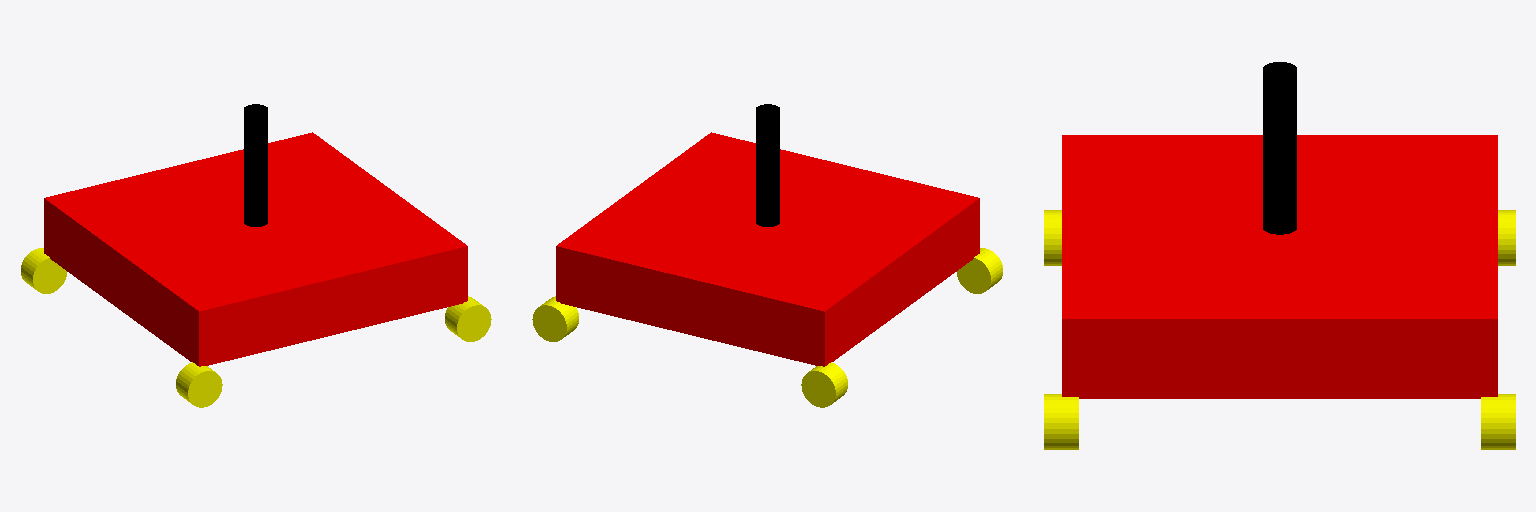
The robot description file, URDF, robot "fishbot":
<?xml version="1.0" ?>
<!-- =================================================================================== -->
<!-- |    This document was autogenerated by xacro from core/robot_simulation/urdf/fishrot/fishbot.xacro | -->
<!-- |    EDITING THIS FILE BY HAND IS NOT RECOMMENDED                                 | -->
<!-- =================================================================================== -->
<robot name="fishbot">
  <!-- 机器人的身体部件 -->
  <link name="base_link">
    <!-- 部件的外观描述 -->
    <visual>
      <!-- 相对于它所属 link 原点的位置偏移 -->
      <origin rpy="0 0 0" xyz="0 0 0"/>
      <!-- 几何形状 -->
      <geometry>
        <box size="0.5 0.5 0.1"/>
        <!-- 长lengthm 宽widthm 高heightm -->
      </geometry>
      <!-- 材质颜色 -->
      <material name="red">
        <color rgba="1 0 0 0.2"/>
        <!-- 红 绿 蓝 透明度，范围0~1 -->
      </material>
    </visual>
    <!-- 碰撞体积 (与visual几何一致) -->
    <collision>
      <origin rpy="0 0 0" xyz="0 0 0"/>
      <geometry>
        <box size="0.5 0.5 0.1"/>
      </geometry>
    </collision>
    <!-- 惯性 (质量与转动惯量，Gazebo仿真必需) -->
    <inertial>
      <mass value="5"/>
      <!-- 长方体转动惯量: Ixx=m/12*(y²+z²), Iyy=m/12*(x²+z²), Izz=m/12*(x²+y²) -->
      <inertia ixx="0.10833333333333334" ixy="0" ixz="0" iyy="0.10833333333333334" iyz="0" izz="0.20833333333333334"/>
    </inertial>
  </link>
  <!-- 添加虚拟部件，使机器人轮子贴合地面 -->
  <link name="base_footprint"/>
  <joint name="base_footprint_joint" type="fixed">
    <parent link="base_footprint"/>
    <child link="base_link"/>
    <origin rpy="0 0 0" xyz="0 0 0.112"/>
    <!-- base_link 在 base_footprint 上方 0.112m，轮子恰好贴地 -->
  </joint>
  <!-- 机器人的IMU部件 -->
  <link name="imu_link">
    <!-- 部件的外观描述 -->
    <visual>
      <!-- 相对于它所属 link 原点的位置偏移 -->
      <origin rpy="0 0 0" xyz="0 0 0"/>
      <!-- 几何形状 -->
      <geometry>
        <box size="0.02 0.02 0.02"/>
        <!-- 长0.02m 宽0.02m 高0.02m -->
      </geometry>
      <!-- 材质颜色 -->
      <material name="gray">
        <color rgba="0 0 0 0.5"/>
      </material>
    </visual>
    <!-- 碰撞体积 (与visual几何一致) -->
    <collision>
      <origin rpy="0 0 0" xyz="0 0 0"/>
      <geometry>
        <box size="0.02 0.02 0.02"/>
      </geometry>
    </collision>
    <!-- 惯性 (质量与转动惯量，Gazebo仿真必需) -->
    <inertial>
      <mass value="0.01"/>
      <inertia ixx="0.000000667" ixy="0" ixz="0" iyy="0.000000667" iyz="0" izz="0.000000667"/>
    </inertial>
  </link>
  <!-- 将IMU部件固定到机器人身体部件 -->
  <joint name="imu_link_joint" type="fixed">
    <parent link="base_link"/>
    <child link="imu_link"/>
    <origin rpy="0 0 0" xyz="0 0 -0.1"/>
    <!-- child(imu_link) 相对于 parent(base_link) 的偏移 -->
  </joint>
  <!-- 雷达支撑杆部件 -->
  <link name="laser_cylinder_link">
    <!-- 部件的外观描述 -->
    <visual>
      <!-- 相对于它所属 link 原点的位置偏移 -->
      <origin rpy="0 0 0" xyz="0 0 0"/>
      <!-- 几何形状 -->
      <geometry>
        <cylinder length="0.1" radius="0.01"/>
        <!-- 圆柱体：半径0.01m 高0.1m -->
      </geometry>
      <!-- 材质颜色 -->
      <material name="black">
        <color rgba="0 0 0 1.0"/>
      </material>
    </visual>
    <!-- 碰撞体积 (与visual几何一致) -->
    <collision>
      <origin rpy="0 0 0" xyz="0 0 0"/>
      <geometry>
        <cylinder length="0.1" radius="0.01"/>
      </geometry>
    </collision>
    <!-- 惯性 (质量与转动惯量，Gazebo仿真必需) -->
    <inertial>
      <mass value="0.1"/>
      <inertia ixx="0.0000858" ixy="0" ixz="0" iyy="0.000005" iyz="0" izz="0.0000858"/>
    </inertial>
  </link>
  <!-- 雷达部件 -->
  <link name="laser_link">
    <!-- 部件的外观描述 -->
    <visual>
      <!-- 相对于它所属 link 原点的位置偏移 -->
      <origin rpy="0 0 0" xyz="0 0 0"/>
      <!-- 几何形状 -->
      <geometry>
        <cylinder length="0.2" radius="0.02"/>
        <!-- 圆柱体：半径0.02m 高0.2m -->
      </geometry>
      <!-- 材质颜色 -->
      <material name="black">
        <color rgba="0 0 0 1.0"/>
      </material>
    </visual>
    <!-- 碰撞体积 (与visual几何一致) -->
    <collision>
      <origin rpy="0 0 0" xyz="0 0 0"/>
      <geometry>
        <cylinder length="0.2" radius="0.02"/>
      </geometry>
    </collision>
    <!-- 惯性 (质量与转动惯量，Gazebo仿真必需) -->
    <inertial>
      <mass value="0.2"/>
      <inertia ixx="0.000687" ixy="0" ixz="0" iyy="0.00004" iyz="0" izz="0.000687"/>
    </inertial>
  </link>
  <!-- 将雷达固定到支撑杆 -->
  <joint name="laser_joint" type="fixed">
    <parent link="laser_cylinder_link"/>
    <child link="laser_link"/>
    <origin rpy="0 0 0" xyz="0 0 0.05"/>
    <!-- child(laser_link) 相对于 parent(laser_cylinder_link) 的偏移 -->
  </joint>
  <!-- 将雷达支撑杆固定到机器人身体 -->
  <joint name="laser_cylinder_joint" type="fixed">
    <parent link="base_link"/>
    <child link="laser_cylinder_link"/>
    <origin rpy="0 0 0" xyz="0 0 0.1"/>
    <!-- child(laser_cylinder_link) 相对于 parent(base_link) 的偏移 -->
  </joint>
  <gazebo reference="laser_cylinder_link">
    <visual>
      <material>
        <ambient>0 0 1 1</ambient>
        <diffuse>0 0 1 1</diffuse>
        <specular>0.1 0.1 0.1 1</specular>
        <emissive>0 0 0 1</emissive>
      </material>
    </visual>
  </gazebo>
  <gazebo reference="laser_link">
    <visual>
      <material>
        <ambient>0 0 1 1</ambient>
        <diffuse>0 0 1 1</diffuse>
        <specular>0.1 0.1 0.1 1</specular>
        <emissive>0 0 0 1</emissive>
      </material>
    </visual>
  </gazebo>
  <link name="left_front_wheel_link">
    <!-- 部件的外观描述 -->
    <visual>
      <!-- 相对于它所属 link 原点的位置偏移 -->
      <!-- 1.5708弧度，表示绕X轴旋转90度，把竖直的圆柱体放平成轮子 -->
      <origin rpy="1.5708 0 0" xyz="0 0 0"/>
      <!-- 几何形状 -->
      <geometry>
        <cylinder length="0.04" radius="0.032"/>
        <!-- 半径0.032m 高0.04m -->
      </geometry>
      <!-- 材质颜色 -->
      <material name="yellow">
        <color rgba="1 1 0 0.8"/>
        <!-- 红 绿 蓝 透明度，范围0~1 -->
      </material>
    </visual>
    <!-- 碰撞体积 (与visual几何一致) -->
    <collision>
      <origin rpy="1.5708 0 0" xyz="0 0 0"/>
      <geometry>
        <cylinder length="0.04" radius="0.032"/>
      </geometry>
    </collision>
    <!-- 惯性 (质量与转动惯量，Gazebo仿真必需) -->
    <inertial>
      <mass value="0.1"/>
      <!-- 圆柱体转动惯量 (半径r=0.032, 长l=0.04, 绕轴I=mr²/2, 垂直轴I=m(3r²+l²)/12) -->
      <inertia ixx="0.0000389" ixy="0" ixz="0" iyy="0.0000512" iyz="0" izz="0.0000389"/>
    </inertial>
  </link>
  <joint name="left_front_wheel_joint" type="continuous">
    <parent link="base_link"/>
    <child link="left_front_wheel_link"/>
    <origin rpy="0 0 0" xyz=" 0.25  0.25 -0.08"/>
    <!-- child(${${wheel_name}_link) 相对于 parent(base_link) 的偏移 -->
    <axis xyz="0 1 0"/>
    <!-- 轴向为y轴 -->
  </joint>
  <!-- Gazebo Fortress 驱动轮接触物理参数，防打滑陷地 -->
  <gazebo reference="left_front_wheel_link">
    <collision>
      <surface>
        <contact>
          <ode>
            <mu>20.0</mu>
            <!-- 滚动方向摩擦系数，越大越不打滑 -->
            <mu2>20.0</mu2>
            <!-- 横向侧滑摩擦系数 -->
            <kp>10000000000.0</kp>
            <!-- 接触刚度，轮子硬度 -->
            <kd>1.0</kd>
            <!-- 接触阻尼，落地缓冲 -->
          </ode>
        </contact>
      </surface>
    </collision>
  </gazebo>
  <link name="right_front_wheel_link">
    <!-- 部件的外观描述 -->
    <visual>
      <!-- 相对于它所属 link 原点的位置偏移 -->
      <!-- 1.5708弧度，表示绕X轴旋转90度，把竖直的圆柱体放平成轮子 -->
      <origin rpy="1.5708 0 0" xyz="0 0 0"/>
      <!-- 几何形状 -->
      <geometry>
        <cylinder length="0.04" radius="0.032"/>
        <!-- 半径0.032m 高0.04m -->
      </geometry>
      <!-- 材质颜色 -->
      <material name="yellow">
        <color rgba="1 1 0 0.8"/>
        <!-- 红 绿 蓝 透明度，范围0~1 -->
      </material>
    </visual>
    <!-- 碰撞体积 (与visual几何一致) -->
    <collision>
      <origin rpy="1.5708 0 0" xyz="0 0 0"/>
      <geometry>
        <cylinder length="0.04" radius="0.032"/>
      </geometry>
    </collision>
    <!-- 惯性 (质量与转动惯量，Gazebo仿真必需) -->
    <inertial>
      <mass value="0.1"/>
      <!-- 圆柱体转动惯量 (半径r=0.032, 长l=0.04, 绕轴I=mr²/2, 垂直轴I=m(3r²+l²)/12) -->
      <inertia ixx="0.0000389" ixy="0" ixz="0" iyy="0.0000512" iyz="0" izz="0.0000389"/>
    </inertial>
  </link>
  <joint name="right_front_wheel_joint" type="continuous">
    <parent link="base_link"/>
    <child link="right_front_wheel_link"/>
    <origin rpy="0 0 0" xyz=" 0.25 -0.25 -0.08"/>
    <!-- child(${${wheel_name}_link) 相对于 parent(base_link) 的偏移 -->
    <axis xyz="0 1 0"/>
    <!-- 轴向为y轴 -->
  </joint>
  <!-- Gazebo Fortress 驱动轮接触物理参数，防打滑陷地 -->
  <gazebo reference="right_front_wheel_link">
    <collision>
      <surface>
        <contact>
          <ode>
            <mu>20.0</mu>
            <!-- 滚动方向摩擦系数，越大越不打滑 -->
            <mu2>20.0</mu2>
            <!-- 横向侧滑摩擦系数 -->
            <kp>10000000000.0</kp>
            <!-- 接触刚度，轮子硬度 -->
            <kd>1.0</kd>
            <!-- 接触阻尼，落地缓冲 -->
          </ode>
        </contact>
      </surface>
    </collision>
  </gazebo>
  <link name="left_rear_wheel_link">
    <!-- 部件的外观描述 -->
    <visual>
      <!-- 相对于它所属 link 原点的位置偏移 -->
      <!-- 1.5708弧度，表示绕X轴旋转90度，把竖直的圆柱体放平成轮子 -->
      <origin rpy="1.5708 0 0" xyz="0 0 0"/>
      <!-- 几何形状 -->
      <geometry>
        <cylinder length="0.04" radius="0.032"/>
        <!-- 半径0.032m 高0.04m -->
      </geometry>
      <!-- 材质颜色 -->
      <material name="yellow">
        <color rgba="1 1 0 0.8"/>
        <!-- 红 绿 蓝 透明度，范围0~1 -->
      </material>
    </visual>
    <!-- 碰撞体积 (与visual几何一致) -->
    <collision>
      <origin rpy="1.5708 0 0" xyz="0 0 0"/>
      <geometry>
        <cylinder length="0.04" radius="0.032"/>
      </geometry>
    </collision>
    <!-- 惯性 (质量与转动惯量，Gazebo仿真必需) -->
    <inertial>
      <mass value="0.1"/>
      <!-- 圆柱体转动惯量 (半径r=0.032, 长l=0.04, 绕轴I=mr²/2, 垂直轴I=m(3r²+l²)/12) -->
      <inertia ixx="0.0000389" ixy="0" ixz="0" iyy="0.0000512" iyz="0" izz="0.0000389"/>
    </inertial>
  </link>
  <joint name="left_rear_wheel_joint" type="continuous">
    <parent link="base_link"/>
    <child link="left_rear_wheel_link"/>
    <origin rpy="0 0 0" xyz="-0.25  0.25 -0.08"/>
    <!-- child(${${wheel_name}_link) 相对于 parent(base_link) 的偏移 -->
    <axis xyz="0 1 0"/>
    <!-- 轴向为y轴 -->
  </joint>
  <!-- Gazebo Fortress 驱动轮接触物理参数，防打滑陷地 -->
  <gazebo reference="left_rear_wheel_link">
    <collision>
      <surface>
        <contact>
          <ode>
            <mu>20.0</mu>
            <!-- 滚动方向摩擦系数，越大越不打滑 -->
            <mu2>20.0</mu2>
            <!-- 横向侧滑摩擦系数 -->
            <kp>10000000000.0</kp>
            <!-- 接触刚度，轮子硬度 -->
            <kd>1.0</kd>
            <!-- 接触阻尼，落地缓冲 -->
          </ode>
        </contact>
      </surface>
    </collision>
  </gazebo>
  <link name="right_rear_wheel_link">
    <!-- 部件的外观描述 -->
    <visual>
      <!-- 相对于它所属 link 原点的位置偏移 -->
      <!-- 1.5708弧度，表示绕X轴旋转90度，把竖直的圆柱体放平成轮子 -->
      <origin rpy="1.5708 0 0" xyz="0 0 0"/>
      <!-- 几何形状 -->
      <geometry>
        <cylinder length="0.04" radius="0.032"/>
        <!-- 半径0.032m 高0.04m -->
      </geometry>
      <!-- 材质颜色 -->
      <material name="yellow">
        <color rgba="1 1 0 0.8"/>
        <!-- 红 绿 蓝 透明度，范围0~1 -->
      </material>
    </visual>
    <!-- 碰撞体积 (与visual几何一致) -->
    <collision>
      <origin rpy="1.5708 0 0" xyz="0 0 0"/>
      <geometry>
        <cylinder length="0.04" radius="0.032"/>
      </geometry>
    </collision>
    <!-- 惯性 (质量与转动惯量，Gazebo仿真必需) -->
    <inertial>
      <mass value="0.1"/>
      <!-- 圆柱体转动惯量 (半径r=0.032, 长l=0.04, 绕轴I=mr²/2, 垂直轴I=m(3r²+l²)/12) -->
      <inertia ixx="0.0000389" ixy="0" ixz="0" iyy="0.0000512" iyz="0" izz="0.0000389"/>
    </inertial>
  </link>
  <joint name="right_rear_wheel_joint" type="continuous">
    <parent link="base_link"/>
    <child link="right_rear_wheel_link"/>
    <origin rpy="0 0 0" xyz="-0.25 -0.25 -0.08"/>
    <!-- child(${${wheel_name}_link) 相对于 parent(base_link) 的偏移 -->
    <axis xyz="0 1 0"/>
    <!-- 轴向为y轴 -->
  </joint>
  <!-- Gazebo Fortress 驱动轮接触物理参数，防打滑陷地 -->
  <gazebo reference="right_rear_wheel_link">
    <collision>
      <surface>
        <contact>
          <ode>
            <mu>20.0</mu>
            <!-- 滚动方向摩擦系数，越大越不打滑 -->
            <mu2>20.0</mu2>
            <!-- 横向侧滑摩擦系数 -->
            <kp>10000000000.0</kp>
            <!-- 接触刚度，轮子硬度 -->
            <kd>1.0</kd>
            <!-- 接触阻尼，落地缓冲 -->
          </ode>
        </contact>
      </surface>
    </collision>
  </gazebo>
  <link name="center_caster_link">
    <!-- 部件的外观描述 -->
    <visual>
      <!-- 相对于它所属 link 原点的位置偏移 -->
      <origin rpy="0 0 0" xyz="0 0 0"/>
      <!-- 几何形状 -->
      <geometry>
        <sphere radius="0.016"/>
        <!-- 半径0.016m -->
      </geometry>
      <!-- 材质颜色 -->
      <material name="yellow">
        <color rgba="1 1 0 0.8"/>
        <!-- 红 绿 蓝 透明度，范围0~1 -->
      </material>
    </visual>
    <!-- 碰撞体积 (与visual几何一致) -->
    <collision>
      <origin rpy="0 0 0" xyz="0 0 0"/>
      <geometry>
        <sphere radius="0.016"/>
      </geometry>
    </collision>
    <!-- 惯性 (质量与转动惯量，Gazebo仿真必需) -->
    <inertial>
      <mass value="0.05"/>
      <!-- 球体转动惯量: I = 2/5 * m * r² -->
      <inertia ixx="0.00000512" ixy="0" ixz="0" iyy="0.00000512" iyz="0" izz="0.00000512"/>
    </inertial>
  </link>
  <joint name="center_caster_joint" type="fixed">
    <parent link="base_link"/>
    <child link="center_caster_link"/>
    <origin rpy="0 0 0" xyz="0 0 -0.096"/>
    <!-- child(${${wheel_name}_link) 相对于 parent(base_link) 的偏移 -->
  </joint>
  <!-- Gazebo Fortress 万向轮接触物理参数，无摩擦可自由滑动 -->
  <gazebo reference="center_caster_link">
    <collision>
      <surface>
        <contact>
          <ode>
            <mu>0.0</mu>
            <!-- 滚动摩擦为0，万向轮无阻力 -->
            <mu2>0.0</mu2>
            <!-- 侧滑摩擦为0，万向轮可自由转向 -->
            <kp>10000000000.0</kp>
            <!-- 接触刚度，避免陷地 -->
            <kd>1.0</kd>
            <!-- 接触阻尼，落地缓冲 -->
          </ode>
        </contact>
      </surface>
    </collision>
  </gazebo>
  <!-- 中心万向轮 -->
  <!-- 差速驱动插件（作用在整个模型上） -->
  <gazebo>
    <plugin filename="libignition-gazebo-diff-drive-system.so" name="ignition::gazebo::systems::DiffDrive">
      <left_joint>left_front_wheel_joint</left_joint>
      <left_joint>left_rear_wheel_joint</left_joint>
      <right_joint>right_front_wheel_joint</right_joint>
      <right_joint>right_rear_wheel_joint</right_joint>
      <wheel_separation>0.5</wheel_separation>
      <wheel_radius>0.032</wheel_radius>
      <odom_publish_frequency>30</odom_publish_frequency>
      <topic>cmd_vel</topic>
    </plugin>
  </gazebo>
</robot>

--- What the picture shows (computed from the rendered views, not written in the file) ---
3 views of the same robot in one strip: view 1: azimuth 30°, elevation 25°; view 2: azimuth 150°, elevation 25°; view 3: azimuth 270°, elevation 25° (orthographic).
Model fishbot with 10 links and 9 joints (4 continuous, 5 fixed), rooted at base_footprint, posed all joints at 0.
Links seen in each view (by area): view 1: base_link, laser_link, right_rear_wheel_link, right_front_wheel_link, left_rear_wheel_link; view 2: base_link, laser_link, left_rear_wheel_link, left_front_wheel_link, right_rear_wheel_link; view 3: base_link, laser_link, left_front_wheel_link, right_front_wheel_link, left_rear_wheel_link, right_rear_wheel_link.
Boxes of the visible links, box(x1,y1,x2,y2) form: base_link: box(44, 132, 467, 366); laser_link: box(244, 104, 267, 226); right_rear_wheel_link: box(176, 362, 222, 407); right_front_wheel_link: box(445, 296, 491, 341); left_rear_wheel_link: box(21, 248, 66, 293); base_link: box(556, 132, 979, 366); laser_link: box(756, 104, 779, 226); left_rear_wheel_link: box(801, 362, 847, 407); left_front_wheel_link: box(532, 296, 578, 341); right_rear_wheel_link: box(957, 248, 1002, 293); base_link: box(1062, 135, 1497, 398); laser_link: box(1263, 62, 1296, 234); left_front_wheel_link: box(1481, 394, 1515, 449); right_front_wheel_link: box(1044, 394, 1078, 449); left_rear_wheel_link: box(1498, 210, 1515, 265); right_rear_wheel_link: box(1044, 210, 1061, 265).
Bounding box of the posed robot: 0.564 × 0.54 × 0.362 m (x, y, z).
Geometry: primitives only (box / cylinder / sphere), no mesh files.
